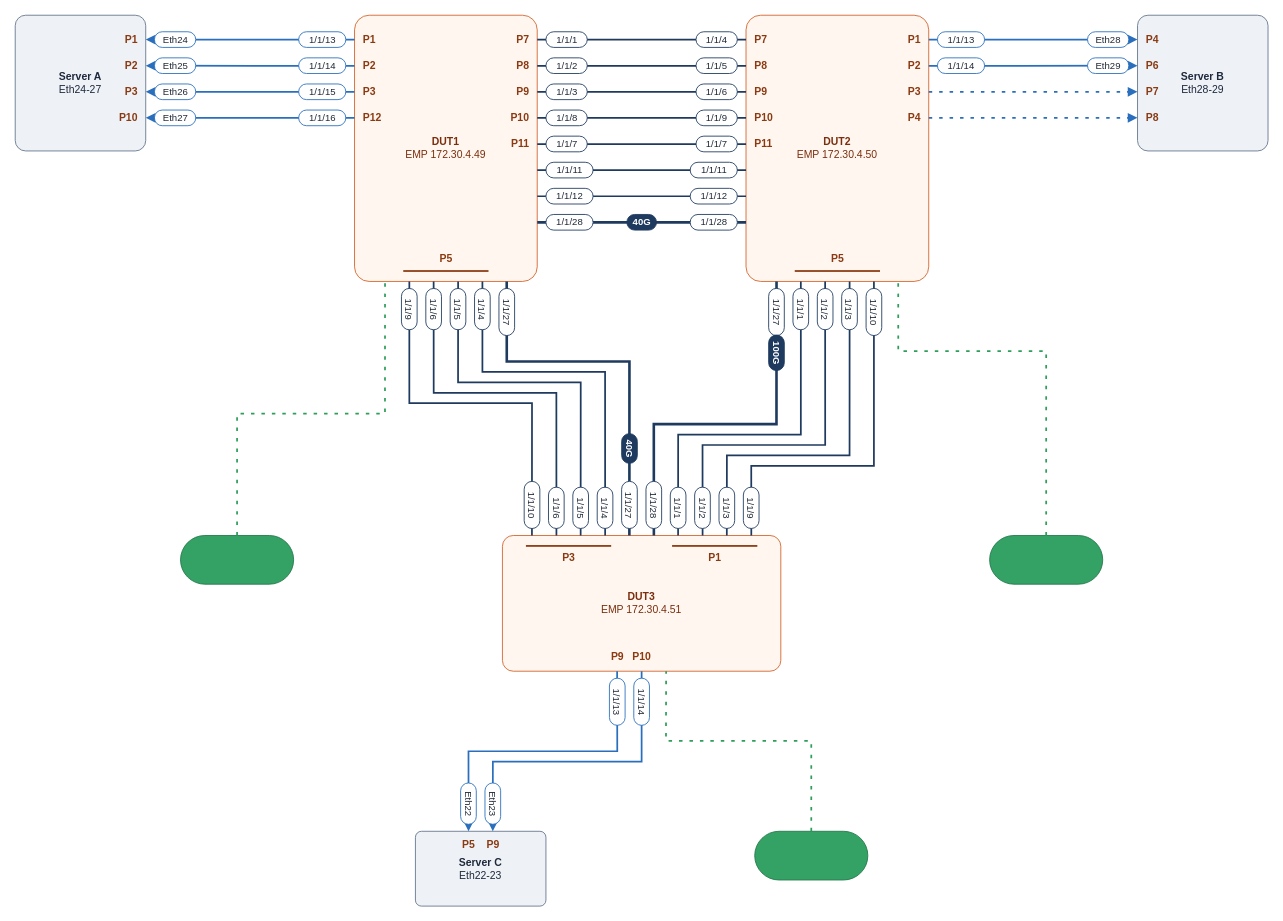
This 1283x921 diagram has some shape labels left out. The shapes that lost their labels are listed below. From the top down, each one's centre as x and y in pixels, then its label:
At (x=237, y=559): "IXIA 7/1 10.255.206.115".
At (x=1046, y=559): "IXIA 7/2 10.255.206.115".
At (x=811, y=855): "IXIA 7/3 10.255.206.115".
